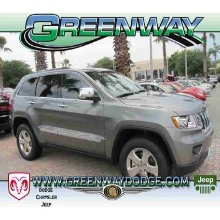no damage: (10, 67, 214, 184), (146, 76, 210, 95)
